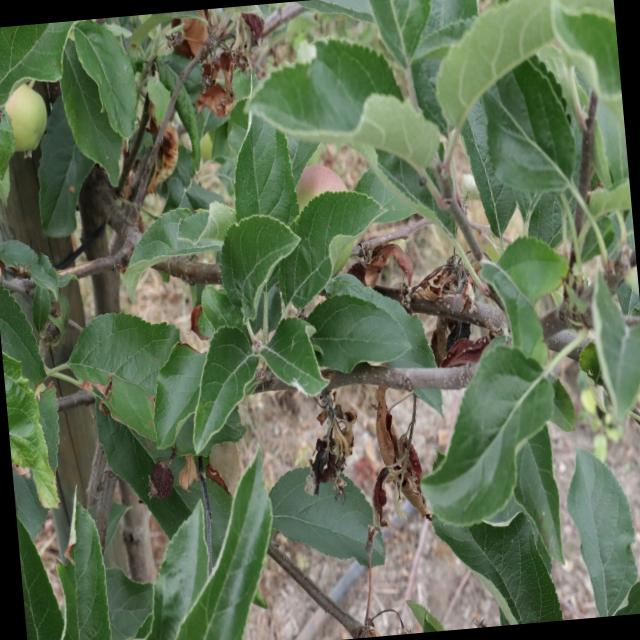-FireBlight-: (366, 389, 435, 541), (349, 235, 481, 308), (166, 13, 256, 110), (305, 397, 357, 497), (143, 104, 191, 198), (412, 319, 498, 368)
